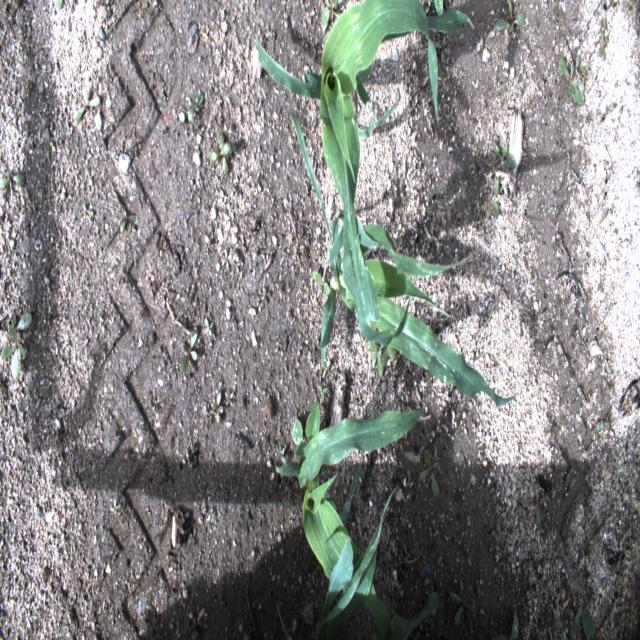crop: (254, 0, 474, 346), (290, 111, 520, 406), (275, 410, 439, 639), (314, 488, 395, 640)
weed: (558, 49, 593, 107), (291, 400, 320, 457), (1, 325, 26, 378), (450, 578, 476, 626), (418, 447, 442, 496), (495, 1, 525, 34), (74, 88, 100, 121), (210, 134, 230, 175), (180, 327, 198, 372), (0, 171, 25, 203), (492, 141, 516, 170), (564, 600, 582, 638), (321, 0, 342, 31), (368, 339, 384, 378), (312, 270, 332, 301), (533, 482, 546, 527), (8, 312, 32, 334), (187, 92, 204, 121), (210, 391, 223, 424), (435, 35, 451, 60), (581, 610, 594, 639), (598, 29, 609, 62), (120, 214, 139, 233), (380, 345, 395, 368), (509, 608, 519, 640), (43, 128, 53, 158), (591, 420, 604, 443), (129, 132, 143, 153), (82, 203, 93, 223), (37, 177, 47, 198), (318, 384, 328, 405), (109, 498, 121, 515), (204, 318, 214, 338), (493, 179, 498, 217), (278, 445, 286, 466), (433, 0, 442, 18), (224, 391, 234, 407), (6, 577, 13, 595), (353, 394, 362, 407), (55, 192, 65, 199), (56, 0, 63, 9)
